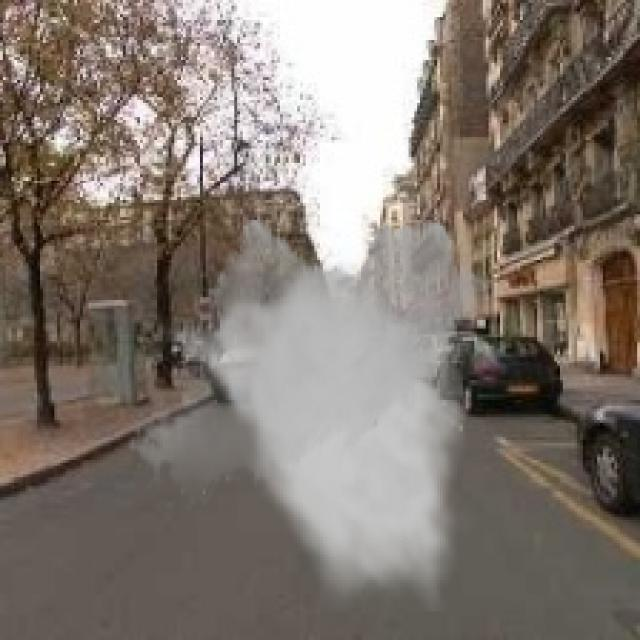Smoke: (126, 208, 500, 612)
